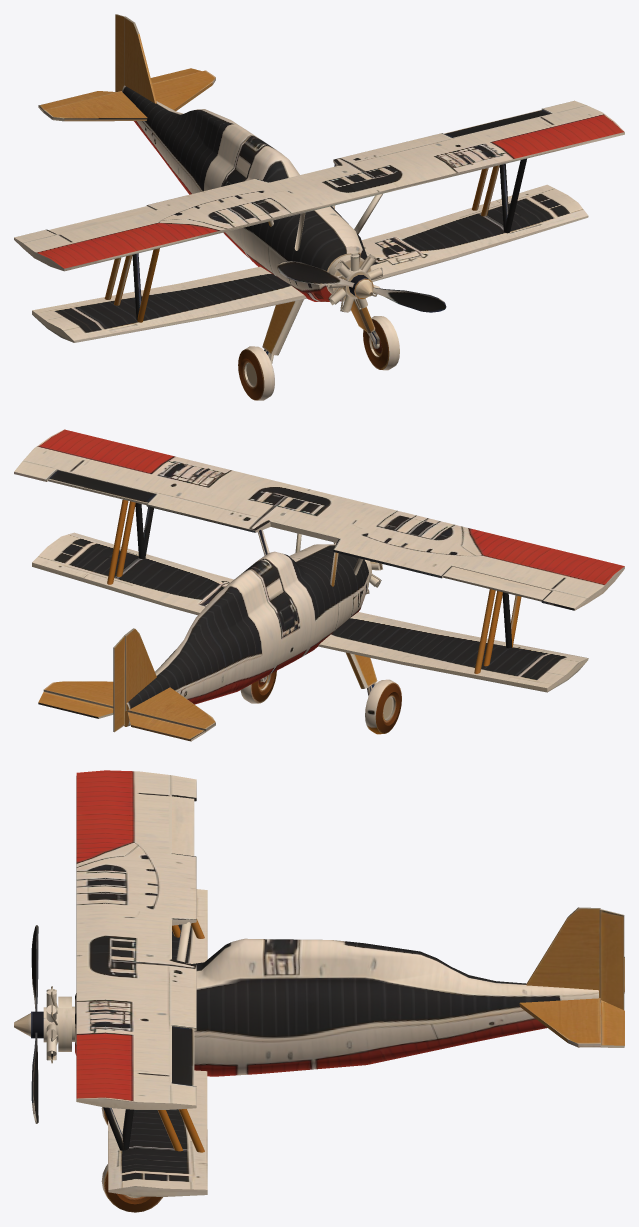
The picture shows the model from 3 angles, top to bottom: view 1: azimuth 30°, elevation 25°; view 2: azimuth 150°, elevation 25°; view 3: azimuth 270°, elevation 25°; orthographic projection. The views are drawn at different scales.
Parts seen in each view (by area): view 1: be48f3f906ed431b98b1bf03ab7aadd6; view 2: be48f3f906ed431b98b1bf03ab7aadd6; view 3: be48f3f906ed431b98b1bf03ab7aadd6.
Boxes of the visible parts, x1,y1,x2,y2 form: be48f3f906ed431b98b1bf03ab7aadd6: (14, 14, 624, 400); be48f3f906ed431b98b1bf03ab7aadd6: (14, 429, 624, 741); be48f3f906ed431b98b1bf03ab7aadd6: (14, 770, 624, 1212).
Size of the model in its own units: 1 by 0.3771 by 0.7802.
Materials: 1 (1 with a texture image).
